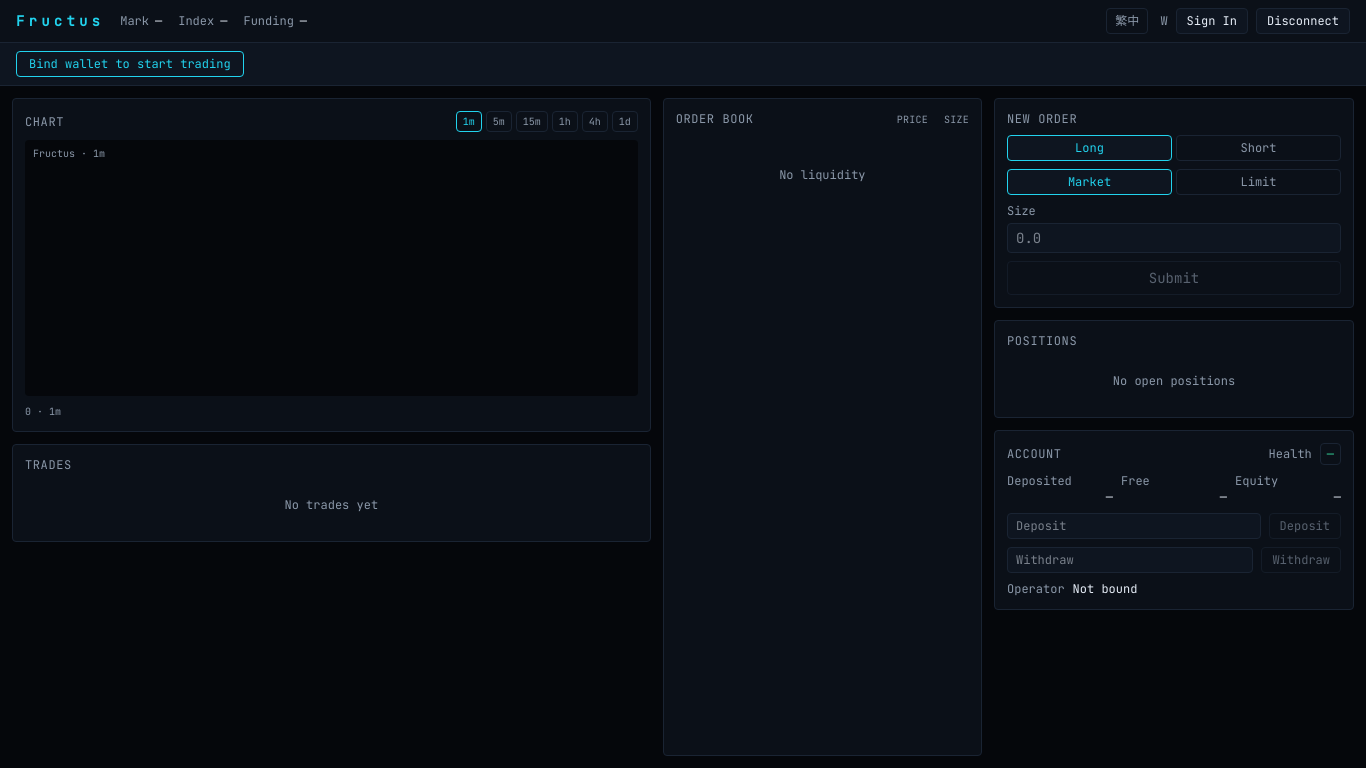
Test case: SHELL-RENDERS-PANELS: the shell renders its seven panels, sets data-theme="dark", and the locale toggle swaps a known label's language
Click the button with test id "locale-toggle". click: (1127, 21)
box: top-left (1106, 8), bottom-right (1148, 34)
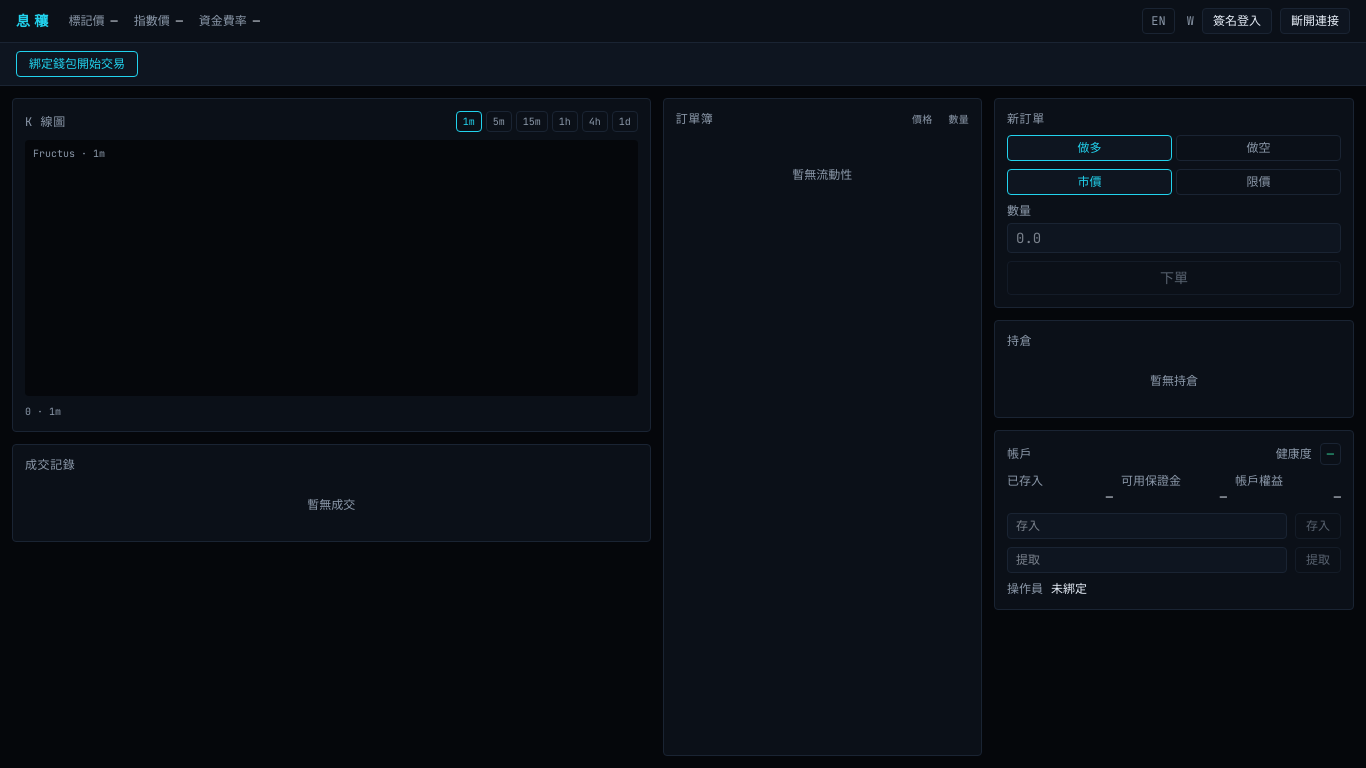
Now the button with test id "bind-cta" reads "綁定錢包開始交易", box top-left (16, 51), bottom-right (138, 77)
